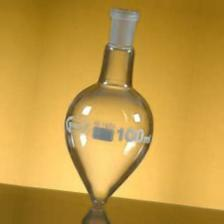Pear shaped flask: (57, 11, 159, 206)
